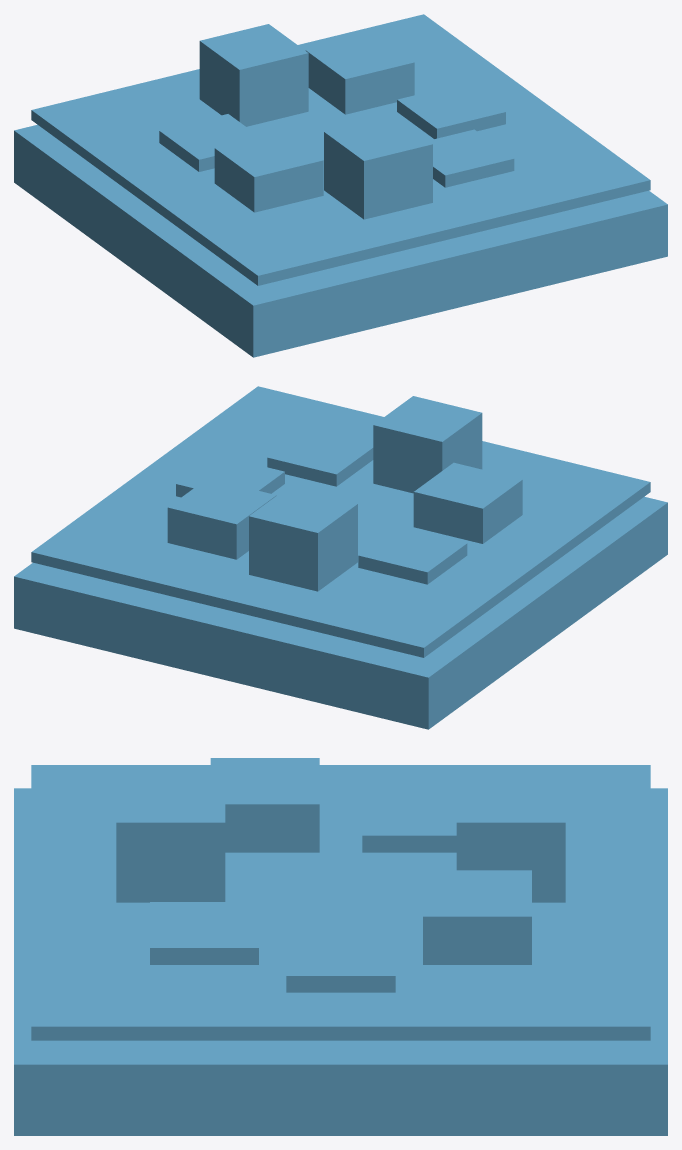
Rendered from coastal_waters.glb.
3 renders of one model, top to bottom at view 1: azimuth 30°, elevation 25°; view 2: azimuth 150°, elevation 25°; view 3: azimuth 270°, elevation 25°, orthographic. The views are drawn at different scales.
Parts seen in each view (by area): view 1: coastal_waters water, coastal_waters base, coastal_waters relief.006, coastal_waters relief.003, coastal_waters relief.005, coastal_waters relief.002, coastal_waters relief.001, coastal_waters relief, coastal_waters relief.004; view 2: coastal_waters water, coastal_waters base, coastal_waters relief.003, coastal_waters relief.006, coastal_waters relief.005, coastal_waters relief.002, coastal_waters relief.004, coastal_waters relief, coastal_waters relief.001; view 3: coastal_waters water, coastal_waters base, coastal_waters relief.006, coastal_waters relief.003, coastal_waters relief.002, coastal_waters relief.005, coastal_waters relief.001, coastal_waters relief, coastal_waters relief.004.
Part boxes in pixels (x1,y1,x2,y2): coastal_waters water: (31, 14, 650, 285); coastal_waters base: (14, 124, 667, 357); coastal_waters relief.006: (324, 115, 432, 219); coastal_waters relief.003: (199, 24, 308, 126); coastal_waters relief.005: (214, 131, 323, 212); coastal_waters relief.002: (305, 33, 414, 114); coastal_waters relief.001: (397, 83, 505, 138); coastal_waters relief: (428, 129, 514, 187); coastal_waters relief.004: (159, 114, 259, 171); coastal_waters water: (31, 386, 650, 657); coastal_waters base: (14, 496, 667, 729); coastal_waters relief.003: (249, 487, 357, 591); coastal_waters relief.006: (373, 396, 482, 493); coastal_waters relief.005: (413, 462, 522, 543); coastal_waters relief.002: (167, 478, 276, 559); coastal_waters relief.004: (358, 526, 467, 584); coastal_waters relief: (267, 428, 373, 486); coastal_waters relief.001: (176, 455, 284, 497); coastal_waters water: (31, 765, 650, 1040); coastal_waters base: (14, 788, 667, 1135); coastal_waters relief.006: (116, 776, 225, 902); coastal_waters relief.003: (456, 776, 565, 902); coastal_waters relief.002: (423, 870, 531, 964); coastal_waters relief.005: (210, 758, 319, 852); coastal_waters relief.001: (286, 929, 395, 992); coastal_waters relief: (150, 902, 258, 964); coastal_waters relief.004: (362, 789, 456, 852).
Size of the model in its own units: 3 by 0.92 by 3.
